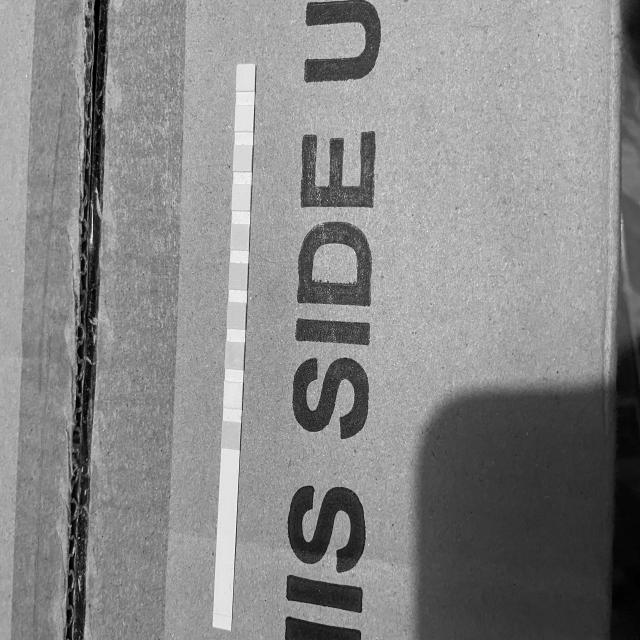Bilirubin: (225, 382, 242, 407)
Blood: (230, 264, 246, 288)
Glucose: (223, 423, 240, 448)
Ketone: (226, 344, 243, 368)
Leukocytes: (238, 67, 254, 90)
Nitrite: (236, 106, 253, 132)
Protein: (233, 185, 250, 209)
SpGravity: (228, 304, 245, 327)
Urobilinogen: (234, 147, 251, 170)
background: (0, 0, 640, 640)
pH: (232, 225, 248, 249)
strip: (213, 65, 255, 630)
